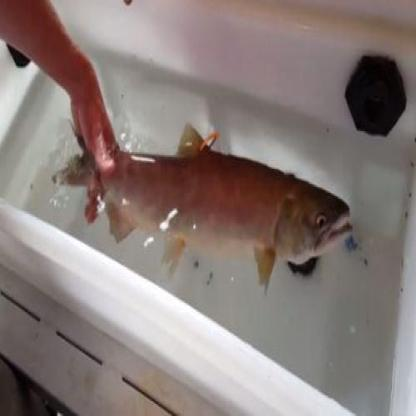fish: (54, 113, 352, 295)
